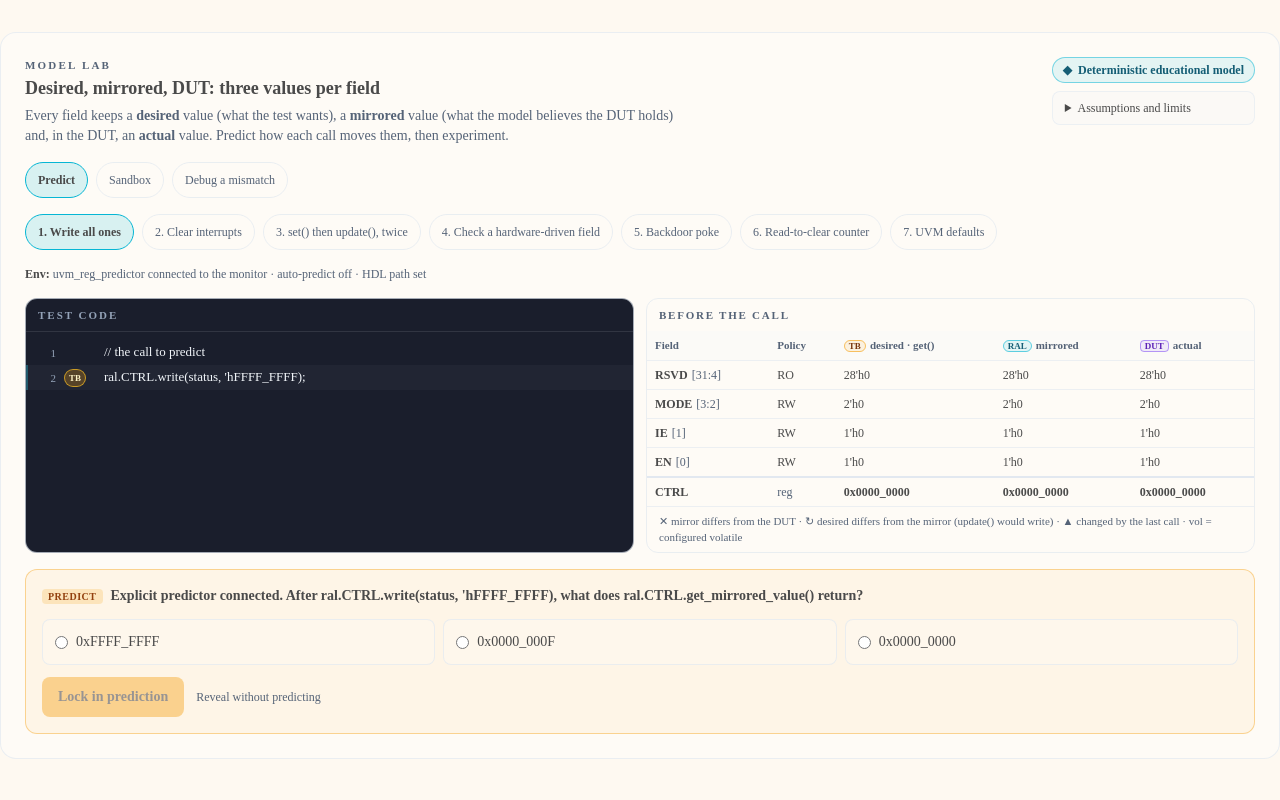
RalRegisterMapVisualizer (model: src/lib/ral-model.ts) › diagnoses the copy-the-bus-data misconception
This screenshot has width=1280, height=800.
Click the radio button labelled "0xFFFF_FFFF" at (62,642), box [55,636,68,648]
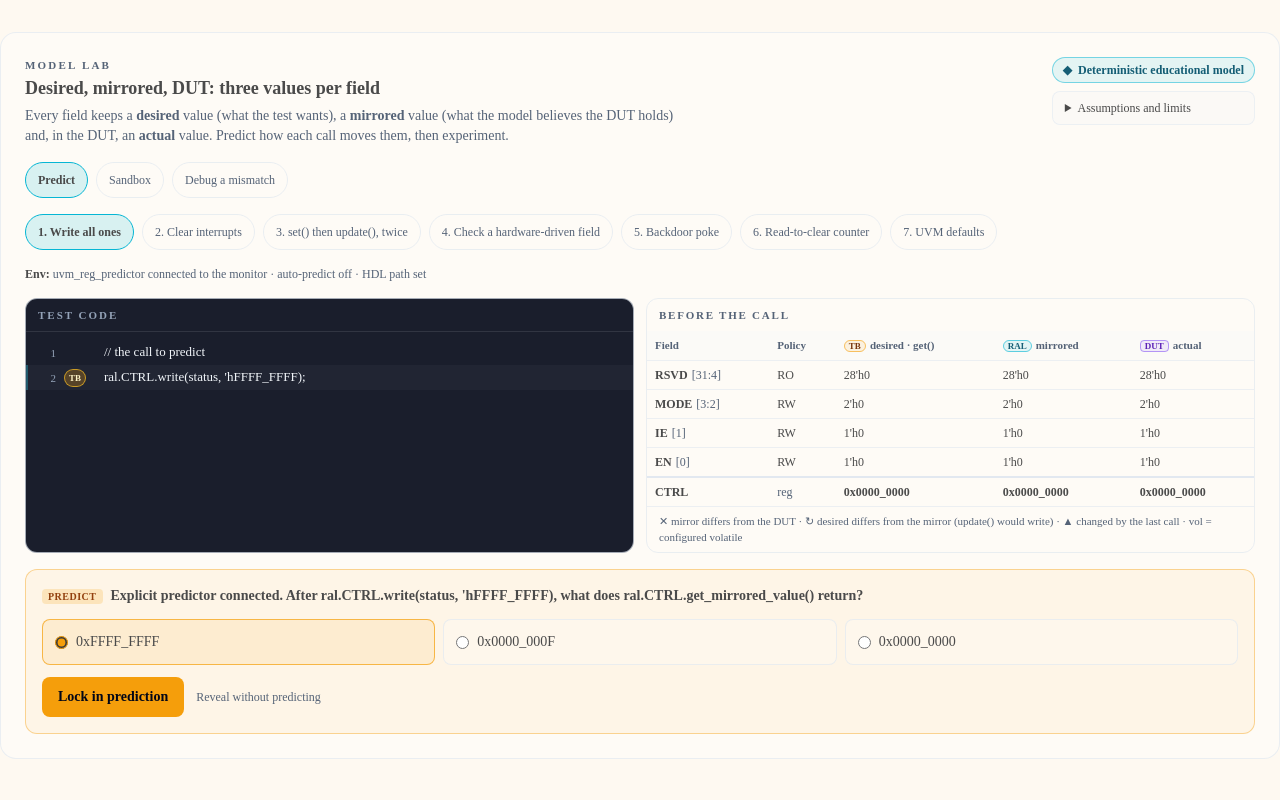
Click the button "Lock in prediction" at (113,696), box [42,676,184,716]
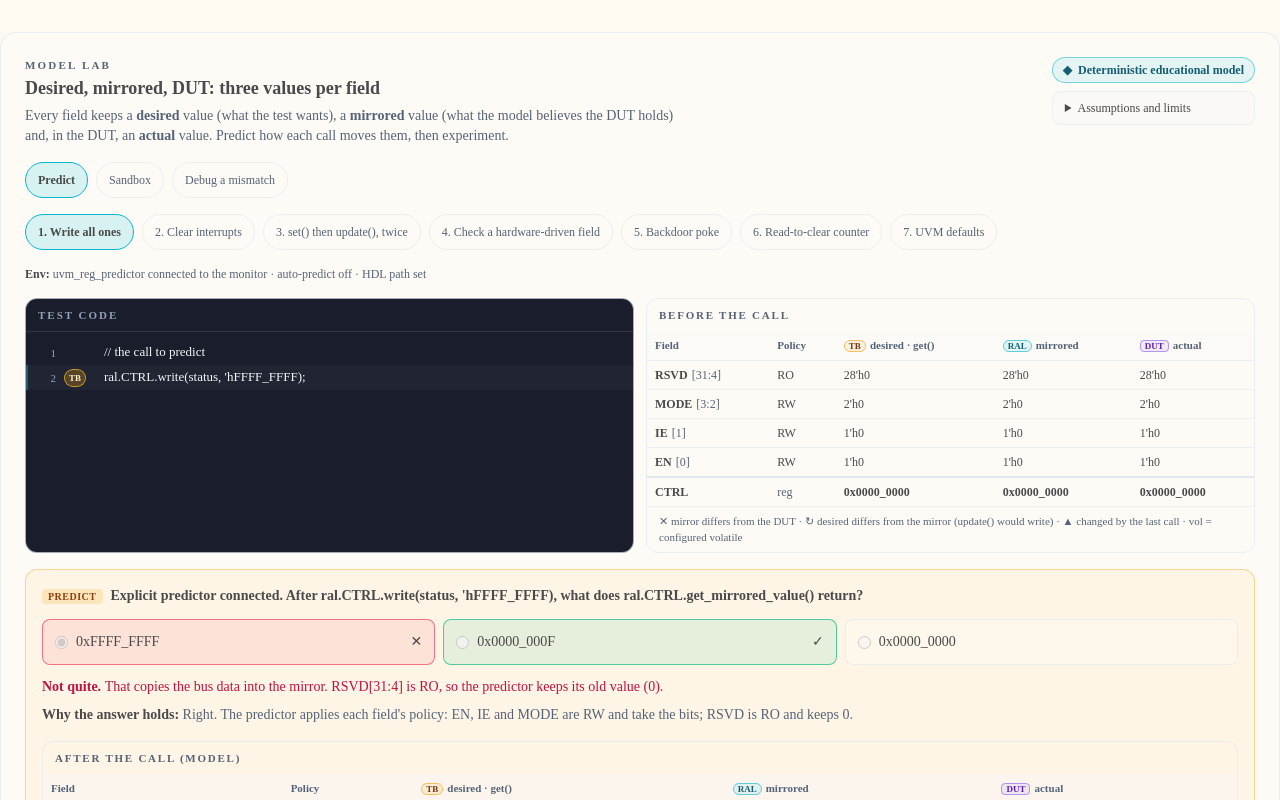
Expected: the text "Not quite." is shown, [42,678,105,694]
Expected: the text "RSVD[31:4] is RO" is shown, [105,678,663,694]
